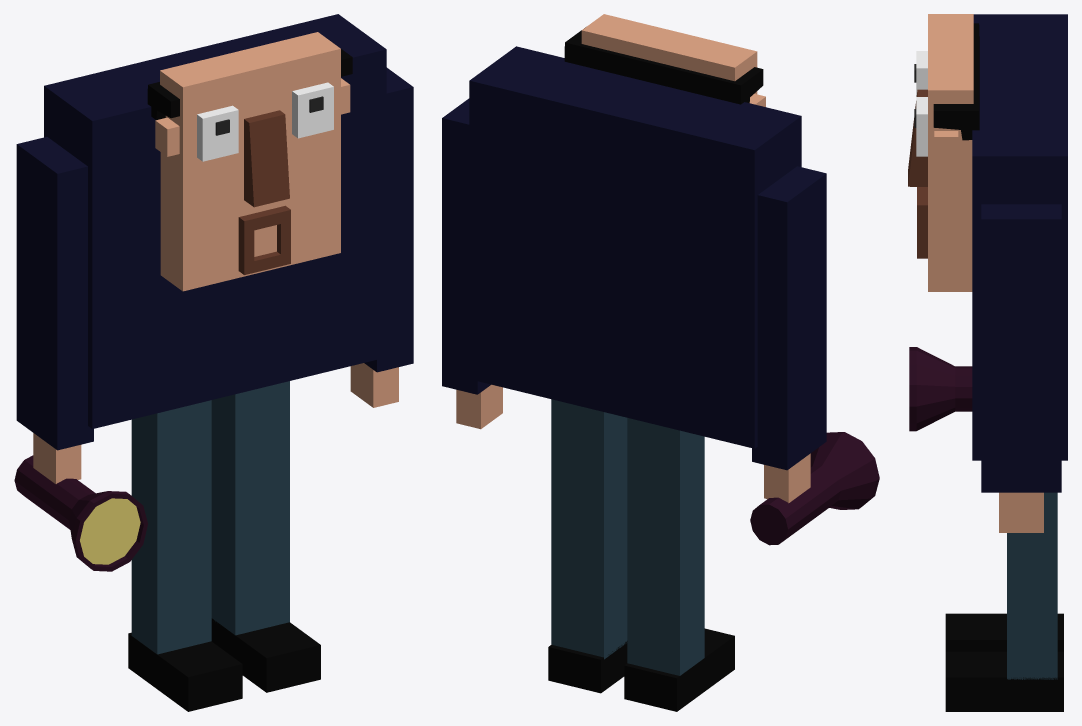
Rendered from dude.glb.
3 views of the same model, side by side, from view 1: azimuth 30°, elevation 25°; view 2: azimuth 150°, elevation 25°; view 3: azimuth 270°, elevation 25° (orthographic). The views are drawn at different scales.
Parts seen in each view (by area): view 1: Cube.001, Cube, Cube.003, Cube.005, Cube.004, Cube.002, Cylinder, Cube.009, Cube.008, Cube.010, Cube.013, Cube.011 (+5 smaller); view 2: Cube.001, Cube.003, Cube.004, Cube.005, Cube.002, Cylinder, Cube, Cube.016, Cube.009, Cube.008, Cube.006, Cube.007; view 3: Cube.002, Cube.001, Cube, Cube.005, Cube.008, Cylinder, Cube.009, Cube.016, Cube.006, Cube.010, Cube.014, Cube.013 (+2 smaller).
Part boxes in pixels (x1,y1,x2,y2): Cube.001: [44, 14, 386, 428]; Cube: [160, 32, 340, 291]; Cube.003: [16, 137, 93, 450]; Cube.005: [211, 381, 289, 635]; Cube.004: [131, 400, 211, 654]; Cube.002: [364, 67, 413, 372]; Cylinder: [14, 455, 147, 571]; Cube.009: [128, 632, 242, 711]; Cube.008: [211, 618, 320, 692]; Cube.010: [244, 110, 289, 207]; Cube.013: [238, 205, 290, 274]; Cube.011: [292, 82, 333, 138]; Cube.001: [469, 46, 801, 448]; Cube.003: [752, 166, 826, 470]; Cube.004: [627, 418, 704, 675]; Cube.005: [551, 399, 627, 659]; Cube.002: [442, 98, 490, 394]; Cylinder: [750, 432, 879, 545]; Cube: [581, 14, 757, 94]; Cube.016: [564, 27, 763, 104]; Cube.009: [624, 628, 734, 711]; Cube.008: [548, 641, 627, 693]; Cube.006: [456, 384, 502, 429]; Cube.007: [764, 453, 810, 503]; Cube.002: [981, 204, 1061, 492]; Cube.001: [972, 14, 1067, 460]; Cube: [928, 14, 973, 291]; Cube.005: [1007, 492, 1057, 679]; Cube.008: [945, 651, 1063, 711]; Cylinder: [909, 347, 972, 431]; Cube.009: [945, 613, 1063, 651]; Cube.016: [933, 23, 979, 140]; Cube.006: [999, 492, 1043, 532]; Cube.010: [908, 89, 927, 186]; Cube.014: [934, 131, 958, 164]; Cube.013: [917, 187, 927, 258].
Bounding box in the file's own units: 2.54 × 4.12 × 0.9516.
